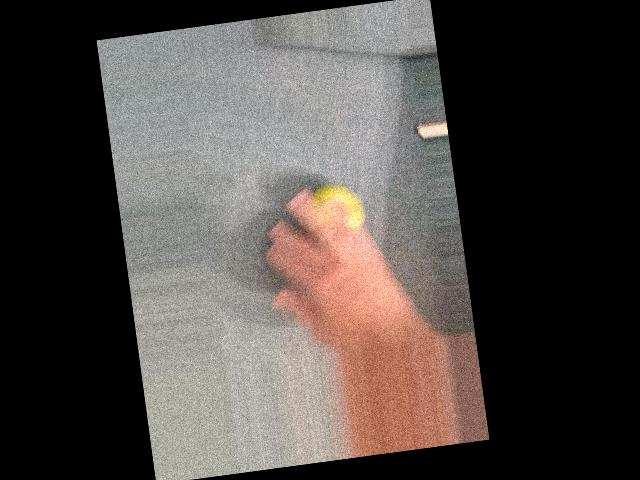apple: (288, 174, 379, 262)
